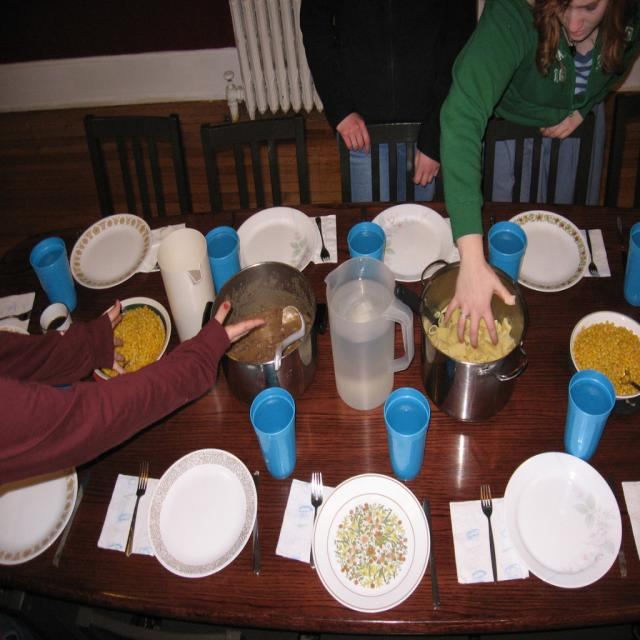non-organic waste: (140, 425, 272, 595), (496, 444, 632, 592), (311, 464, 435, 623)
